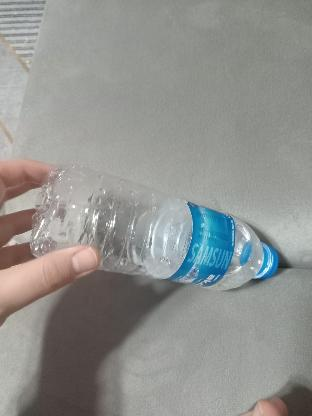Plastic Bottle: (32, 166, 292, 296)
